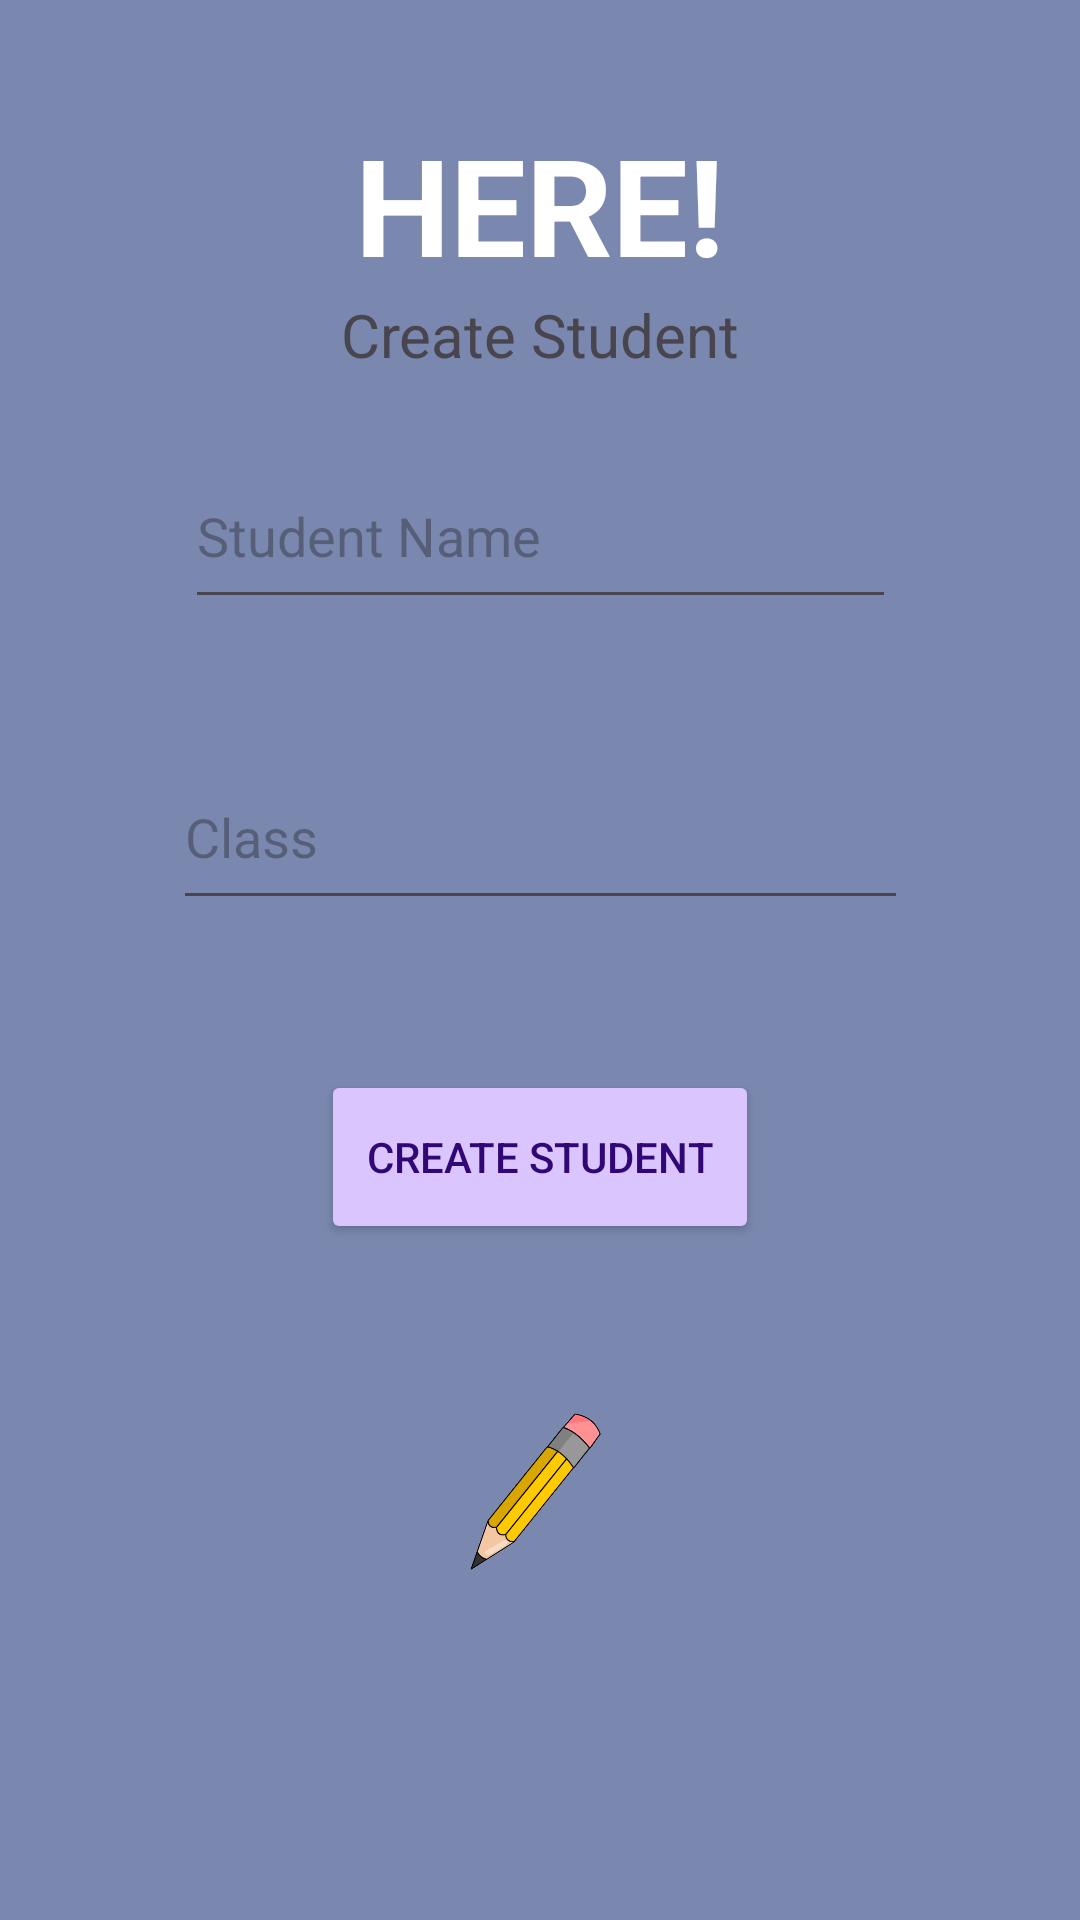

Screen size 1080px x 1920px. Icon name, then its center in pixels as point (x, y):
pencil: point (535, 1491)
